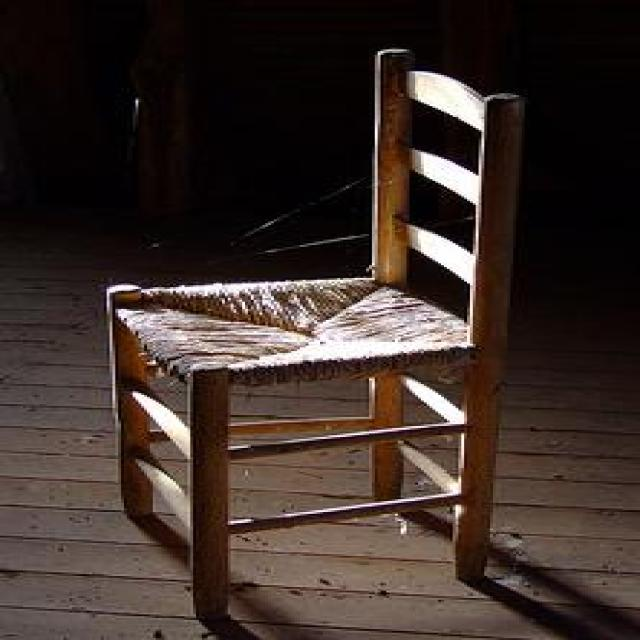chair: (103, 46, 524, 622)
